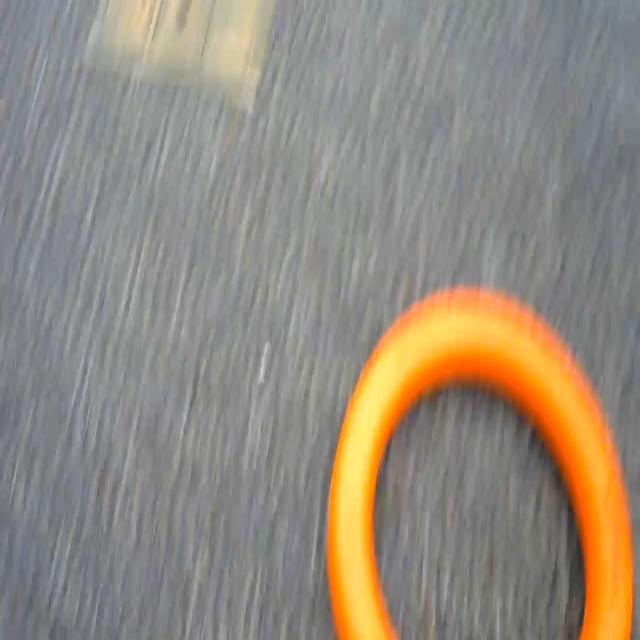note: (312, 281, 640, 640)
